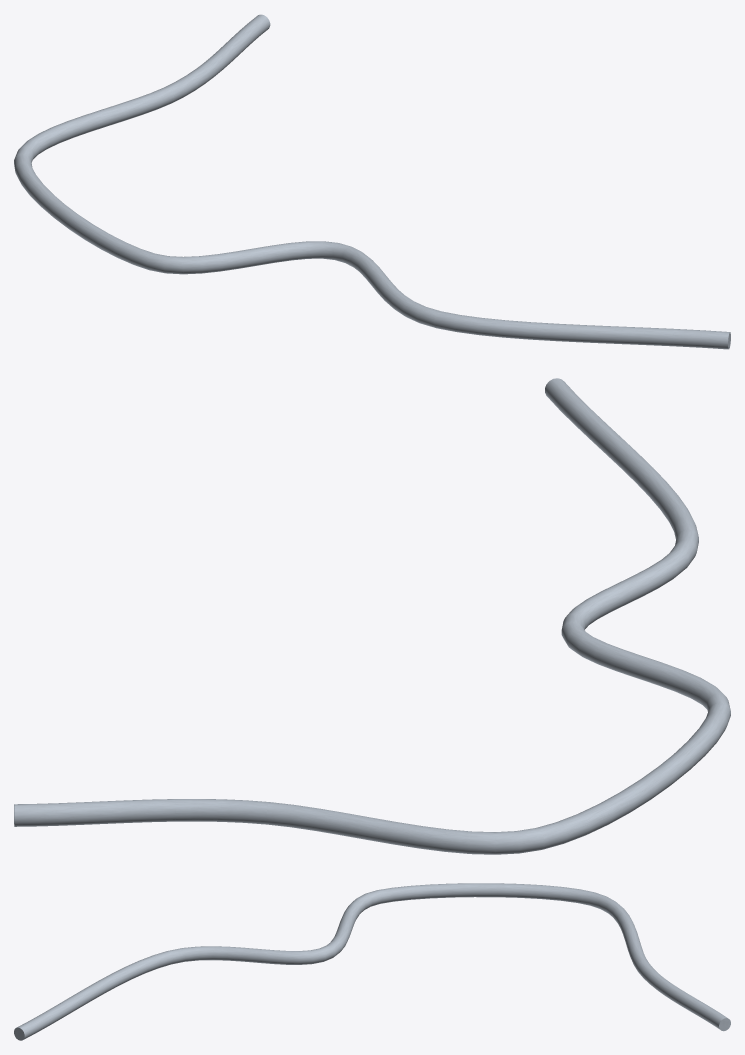
File: SM_Cable_2_Splines_2.fbx
The picture shows the model from 3 angles, top to bottom: view 1: azimuth 30°, elevation 25°; view 2: azimuth 150°, elevation 25°; view 3: azimuth 270°, elevation 25°; orthographic projection. The views are drawn at different scales.
Visible parts, largest first — view 1: SM_Cable_2_Splines_2; view 2: SM_Cable_2_Splines_2; view 3: SM_Cable_2_Splines_2.
Boxes of the visible parts, x1,y1,x2,y2 form: SM_Cable_2_Splines_2: (14, 14, 730, 349); SM_Cable_2_Splines_2: (14, 378, 730, 854); SM_Cable_2_Splines_2: (14, 883, 730, 1040).
Bounding box in the file's own units: 224 × 457 × 8.83.
